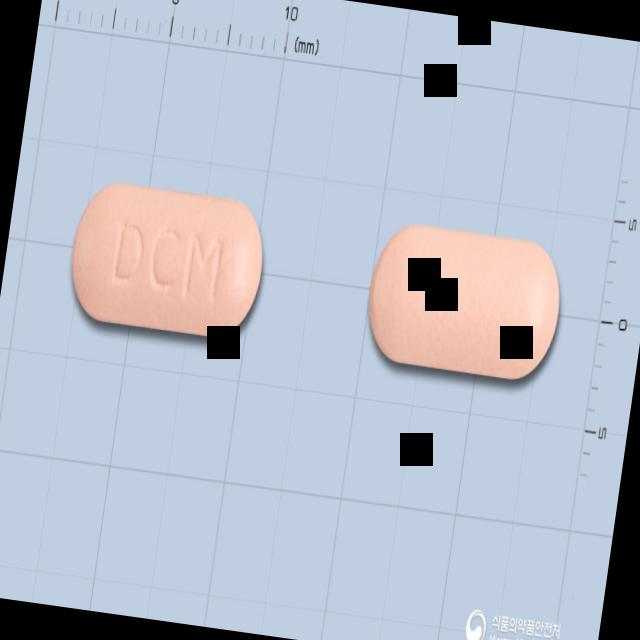Dongkoo Levofloxacin Hydrate Tab-500mg: (64, 176, 272, 343)
